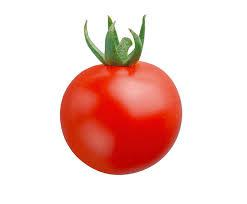tomato: (60, 58, 184, 177)
